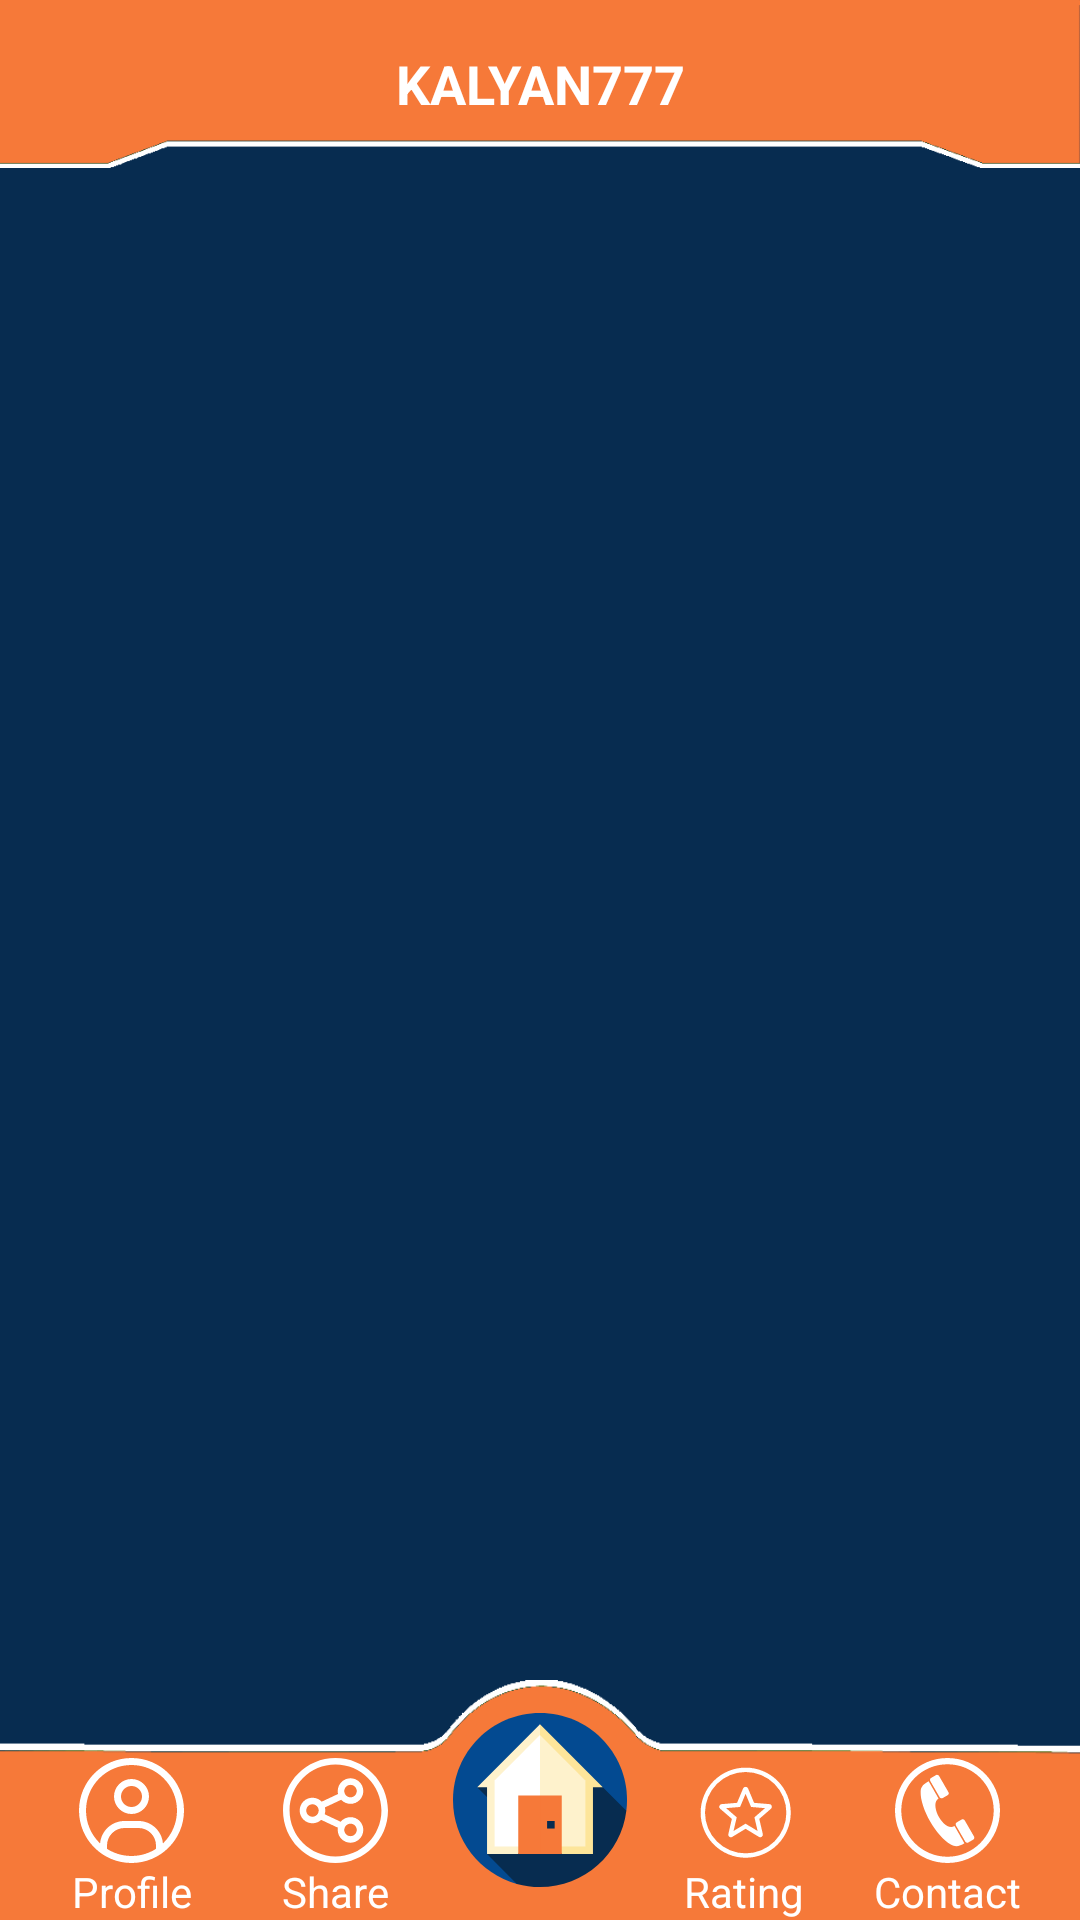

Locate icon controls on the screen. Image size 1080*1920, boxes as box(x1, y1, x2, y2).
home: box(453, 1713, 627, 1887)
star circle: box(700, 1767, 791, 1858)
